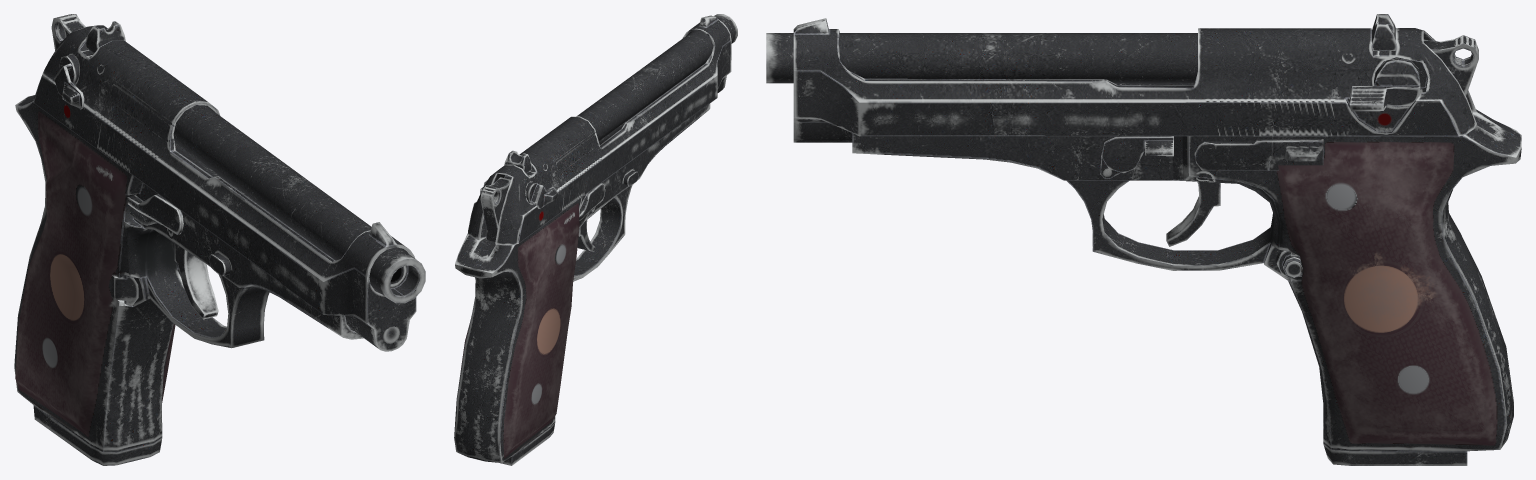
File: Gun_Mesh.FBX
3 views of the same model, side by side, from view 1: azimuth 30°, elevation 25°; view 2: azimuth 150°, elevation 25°; view 3: azimuth 270°, elevation 25° (orthographic). The views are drawn at different scales.
Visible parts, largest first — view 1: Gun_Mesh; view 2: Gun_Mesh; view 3: Gun_Mesh.
Part boxes in pixels (<box>): Gun_Mesh: <box>14,14,425,465</box>; Gun_Mesh: <box>454,14,737,465</box>; Gun_Mesh: <box>766,14,1521,465</box>.
Size of the model in its own units: 4.2 by 17.68 by 28.14.
